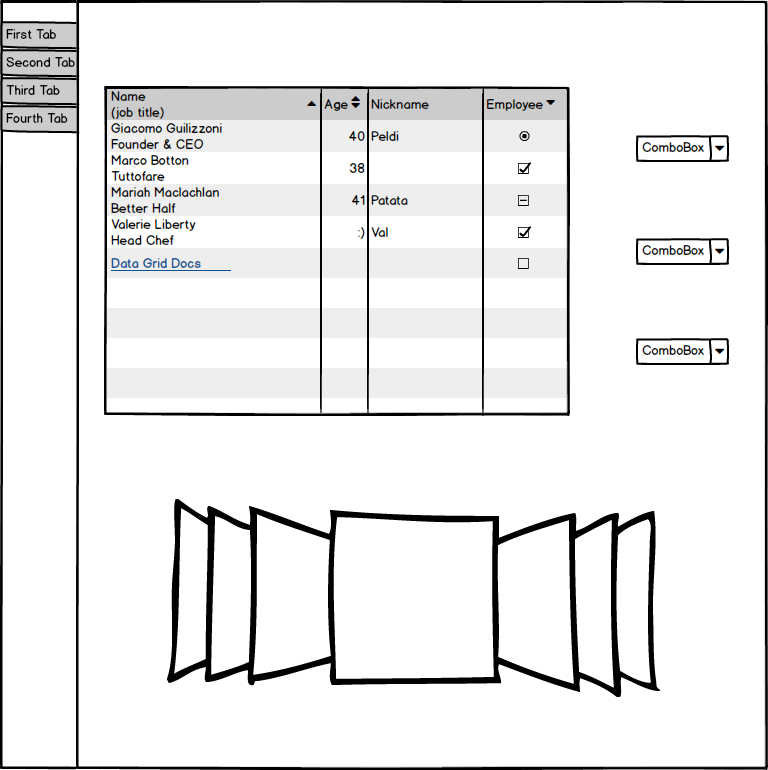select_box: (631, 233, 740, 269), (631, 129, 735, 166), (632, 333, 735, 369)
sidebar: (1, 16, 85, 136)
slideshow: (160, 491, 664, 706)
table: (96, 83, 579, 426)
